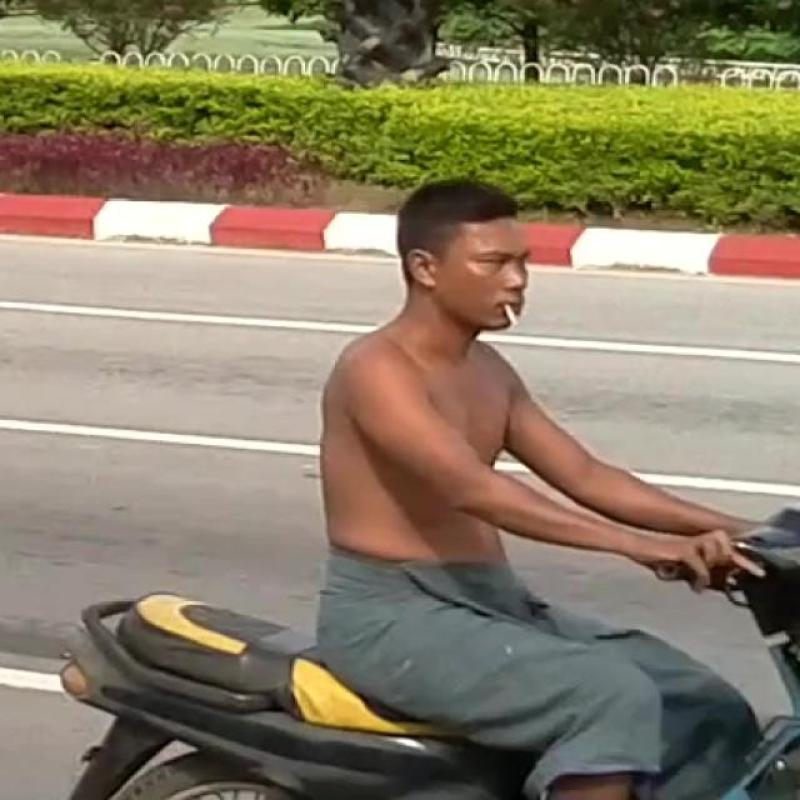nohelmet: (369, 132, 580, 346)
